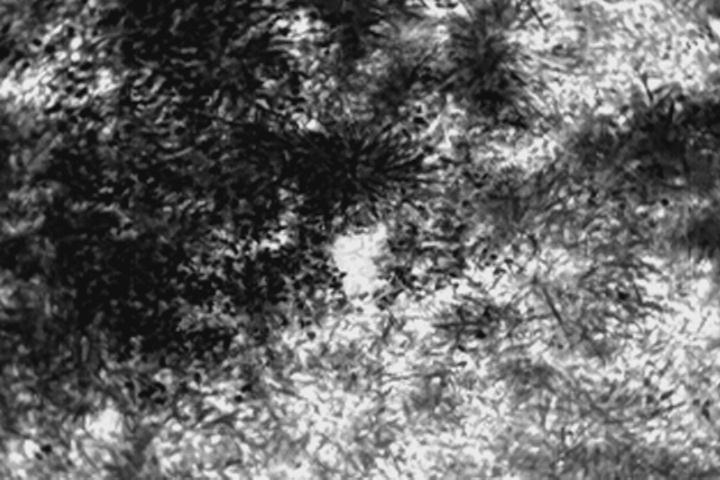landmine: (330, 226, 395, 298)
